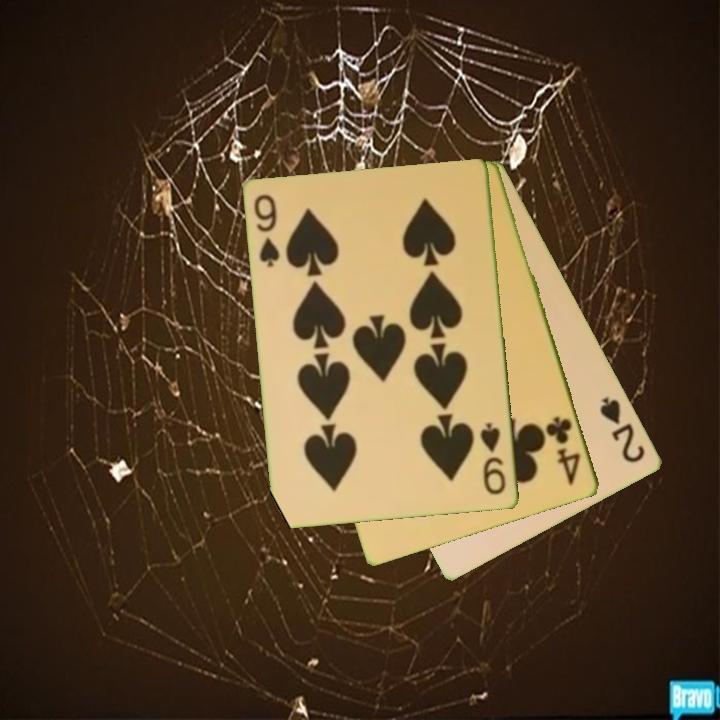2s: (596, 393, 649, 466)
4c: (543, 413, 584, 488)
9s: (250, 191, 283, 270), (477, 420, 509, 498)
